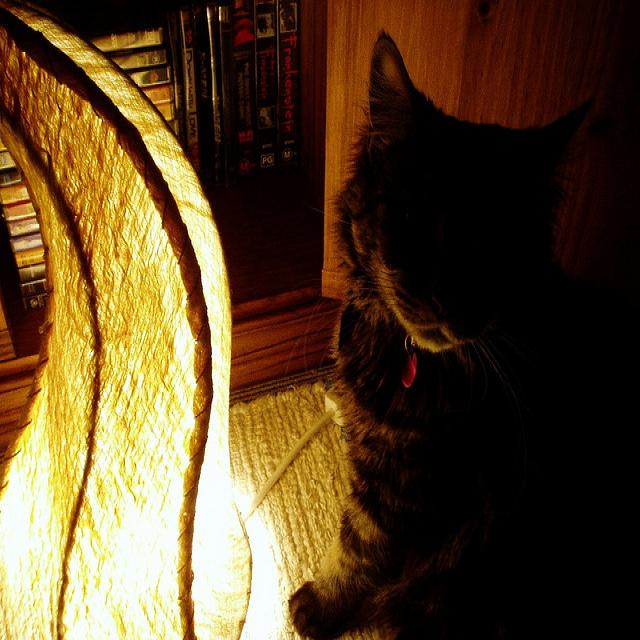Cat: (313, 68, 640, 640)
